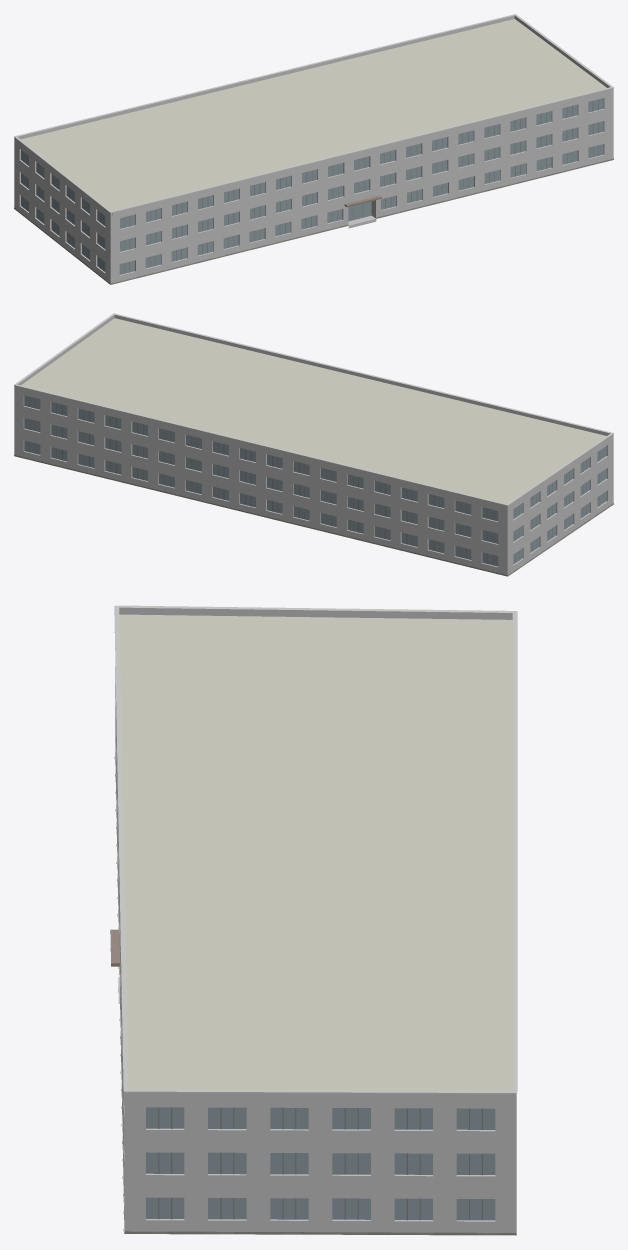
The picture shows the model from 3 angles, top to bottom: view 1: azimuth 30°, elevation 25°; view 2: azimuth 150°, elevation 25°; view 3: azimuth 270°, elevation 25°; orthographic projection. The views are drawn at different scales.
Parts seen in each view (by area): view 1: osm631011012__roof, osm631011012__wall, osm631011012__glass, osm631011012__parapet, osm631011012__trim, osm631011012__frame, osm631011012__base; view 2: osm631011012__roof, osm631011012__wall, osm631011012__glass, osm631011012__parapet, osm631011012__trim, osm631011012__frame, osm631011012__base; view 3: osm631011012__roof, osm631011012__wall, osm631011012__glass, osm631011012__trim, osm631011012__parapet, osm631011012__frame, osm631011012__base.
Part boxes in pixels (x1=…): osm631011012__roof: x1=21, y1=19, x2=606, y2=210; osm631011012__wall: x1=14, y1=91, x2=613, y2=284; osm631011012__glass: x1=21, y1=98, x2=603, y2=274; osm631011012__parapet: x1=14, y1=15, x2=613, y2=215; osm631011012__trim: x1=14, y1=14, x2=613, y2=212; osm631011012__frame: x1=23, y1=99, x2=598, y2=273; osm631011012__base: x1=14, y1=158, x2=613, y2=284; osm631011012__roof: x1=21, y1=318, x2=606, y2=503; osm631011012__wall: x1=14, y1=388, x2=613, y2=575; osm631011012__glass: x1=24, y1=395, x2=606, y2=566; osm631011012__parapet: x1=14, y1=315, x2=613, y2=508; osm631011012__trim: x1=14, y1=313, x2=613, y2=505; osm631011012__frame: x1=29, y1=397, x2=599, y2=565; osm631011012__base: x1=14, y1=455, x2=613, y2=576; osm631011012__roof: x1=119, y1=614, x2=516, y2=1235; osm631011012__wall: x1=115, y1=668, x2=516, y2=1232; osm631011012__glass: x1=146, y1=1107, x2=495, y2=1220; osm631011012__trim: x1=114, y1=605, x2=517, y2=1094; osm631011012__parapet: x1=119, y1=607, x2=516, y2=1099; osm631011012__frame: x1=158, y1=1107, x2=482, y2=1220; osm631011012__base: x1=114, y1=757, x2=516, y2=1235.
Size of the model in its own units: 83.3 by 11.75 by 29.39.
10 materials, 1 textured.
